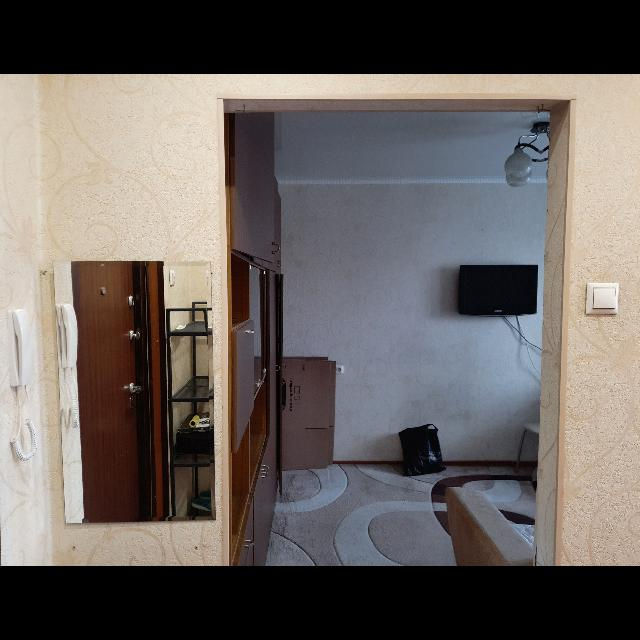Flat-Panel-TV: (459, 264, 539, 316)
